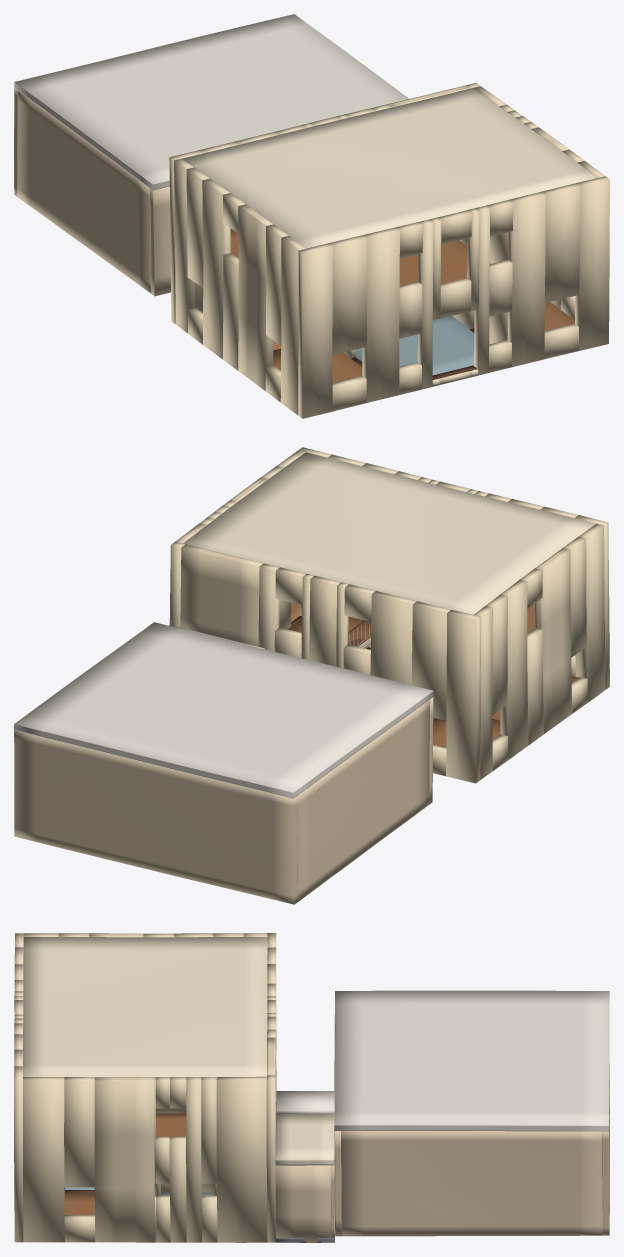
The model's file is Museum_Int_Structure.fbx.
3 views of the same model, one above another, from view 1: azimuth 30°, elevation 25°; view 2: azimuth 150°, elevation 25°; view 3: azimuth 270°, elevation 25° (orthographic).
Visible parts, largest first — view 1: Int_Shell_Walls, Int_Wing_Shell, Int_Slabs, Int_GF_Floors, Int_UF_Floors, Int_GF_Partitions, Int_UF_Partitions; view 2: Int_Wing_Shell, Int_Shell_Walls, Int_Slabs, Int_UF_Floors, Int_GF_Floors; view 3: Int_Wing_Shell, Int_Shell_Walls, Int_Slabs, Int_Annex_Shell, Int_GF_Floors, Int_UF_Floors.
Part boxes in pixels (x1,y1,x2,y2): Int_Shell_Walls: (169, 83, 609, 418); Int_Wing_Shell: (14, 14, 409, 296); Int_Slabs: (182, 88, 597, 248); Int_GF_Floors: (202, 302, 574, 382); Int_UF_Floors: (230, 228, 490, 285); Int_GF_Partitions: (344, 310, 507, 358); Int_UF_Partitions: (459, 232, 508, 263); Int_Wing_Shell: (14, 622, 433, 904); Int_Shell_Walls: (169, 447, 609, 783); Int_Slabs: (183, 452, 595, 648); Int_UF_Floors: (288, 602, 534, 646); Int_GF_Floors: (365, 645, 578, 747); Int_Wing_Shell: (276, 990, 609, 1236); Int_Shell_Walls: (14, 933, 276, 1242); Int_Slabs: (23, 937, 267, 1077); Int_Annex_Shell: (275, 1113, 334, 1242); Int_GF_Floors: (64, 1187, 212, 1215); Int_UF_Floors: (155, 1113, 186, 1136).
Size of the model in its own units: 16.09 by 8.22 by 27.36.
